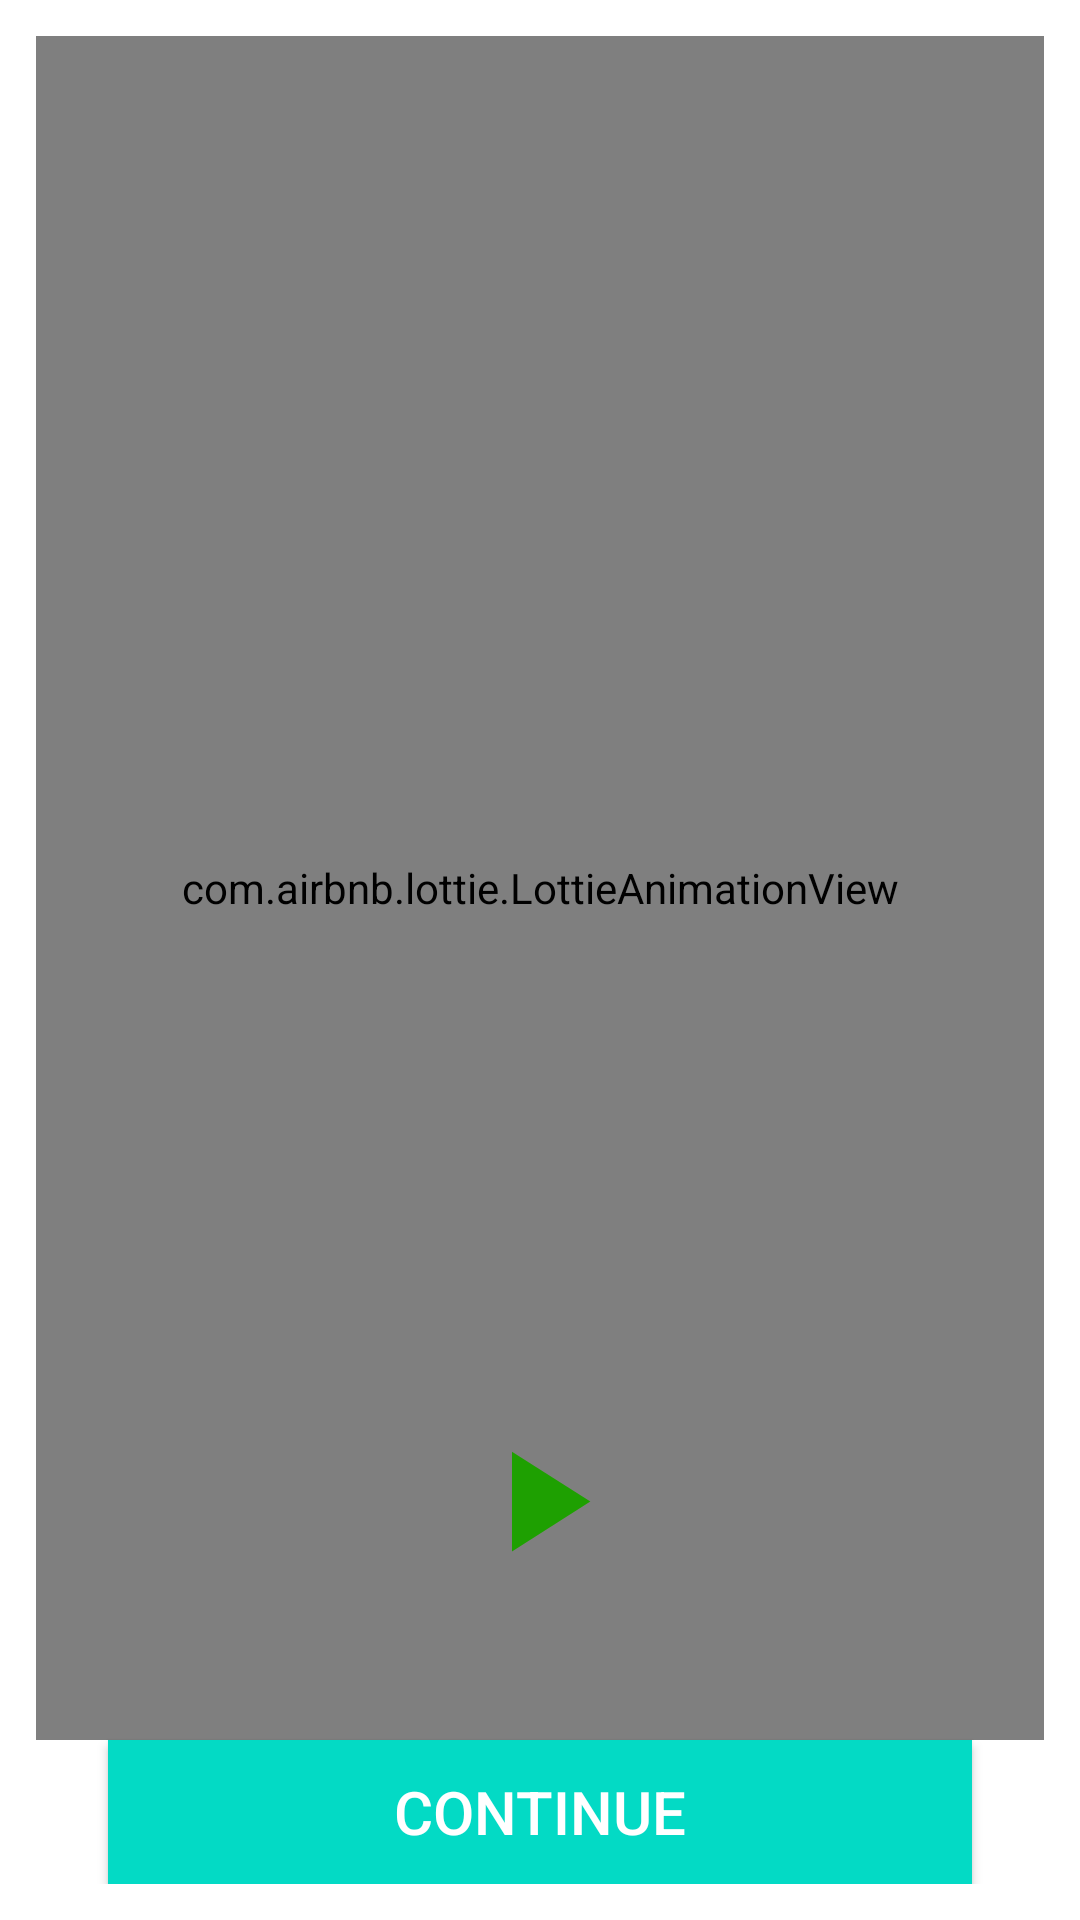

Named icons in this screenshot (1080w x 1920h) and their bounding boxes, (x1=x1, y1=y1, x2=x2, y2=y2):
play: (x1=512, y1=1452, x2=590, y2=1552)
